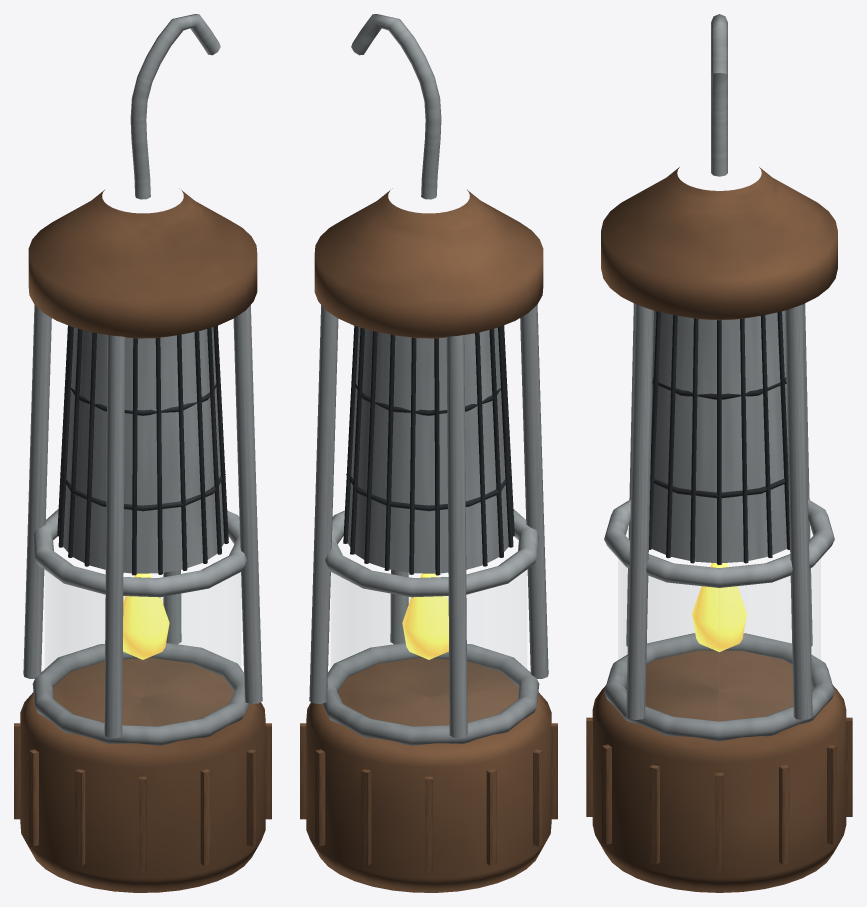
The picture shows the model from 3 angles, left to right: view 1: azimuth 30°, elevation 25°; view 2: azimuth 150°, elevation 25°; view 3: azimuth 270°, elevation 25°; orthographic projection. The views are drawn at different scales.
Visible parts, largest first — view 1: aged brass fittings, machined steel, blown glass, blackened strap iron, lamp flame; view 2: aged brass fittings, machined steel, blown glass, blackened strap iron, lamp flame; view 3: aged brass fittings, machined steel, blown glass, blackened strap iron, lamp flame.
Part boxes in pixels (x1,y1,x2,y2): aged brass fittings: (14, 188, 271, 892); machined steel: (23, 14, 262, 745); blown glass: (45, 571, 240, 725); blackened strap iron: (57, 325, 228, 575); lamp flame: (123, 573, 169, 659); aged brass fittings: (300, 188, 557, 892); machined steel: (309, 14, 548, 745); blown glass: (331, 571, 526, 725); blackened strap iron: (343, 325, 514, 575); lamp flame: (402, 573, 448, 659); aged brass fittings: (586, 167, 852, 892); machined steel: (604, 14, 834, 741); blown glass: (618, 559, 820, 720); blackened strap iron: (649, 311, 789, 564); lamp flame: (692, 563, 746, 651).
Bounding box in the file's own units: 0.126 × 0.4411 × 0.126.
Materials: 5 (3 with a texture image).
